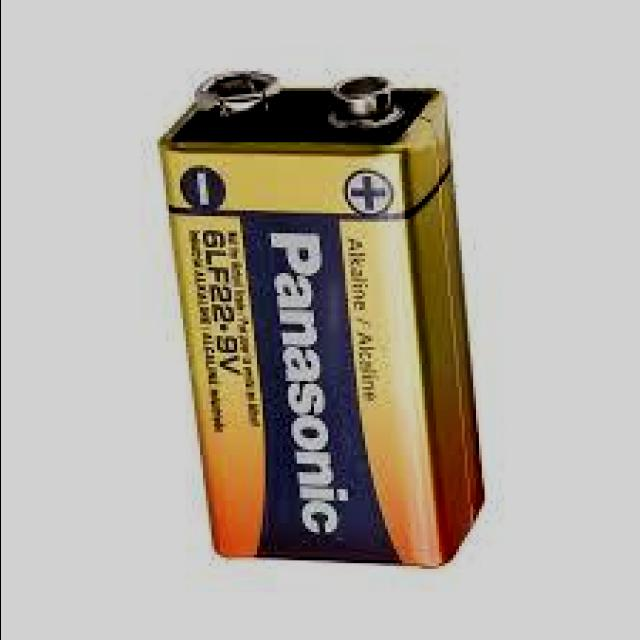9V: (142, 64, 489, 573)
